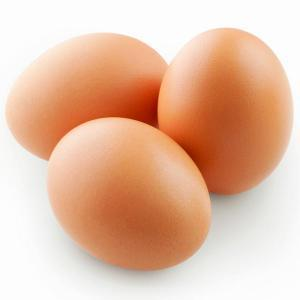Egg: (46, 115, 215, 272), (154, 24, 294, 198), (4, 32, 174, 162)
